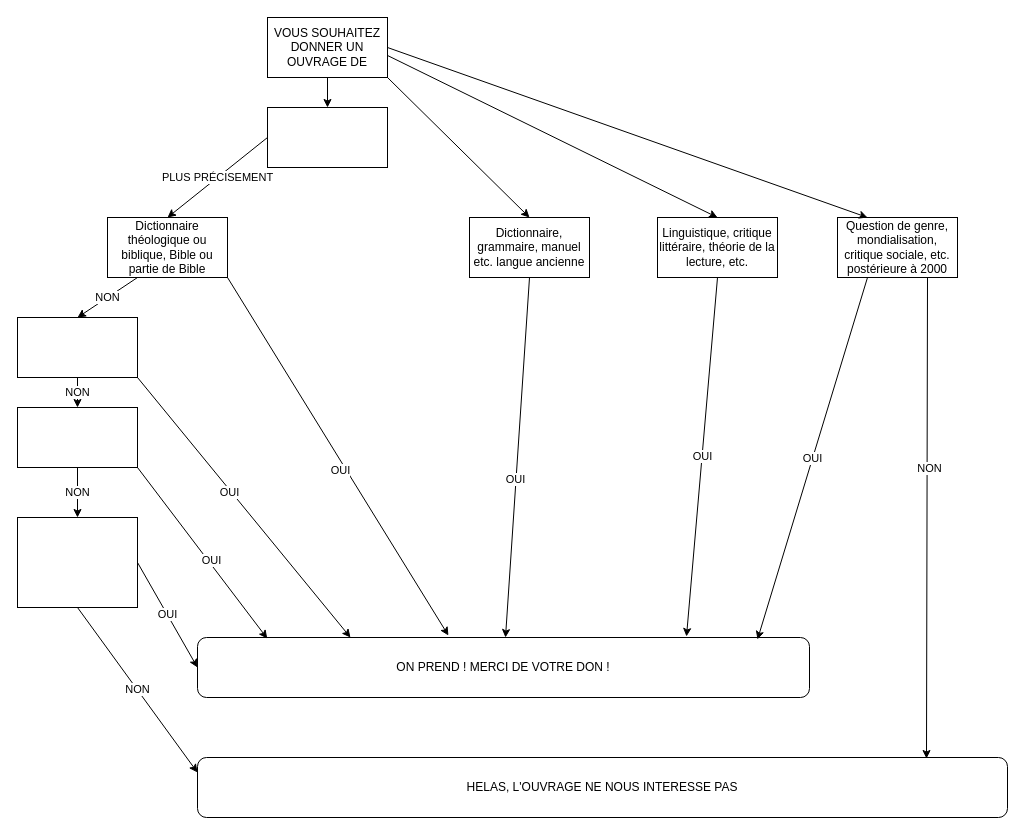
This 1025x835 diagram has some shape labels left out. The shapes that lost their labels are listed below. From the top down, each one's box as (x1, y1, x2, y2) in pixels, then its label:
(266, 106, 388, 168): Religion, Théologie, Philosophie
(16, 316, 138, 378): APRÈS 1990
(16, 406, 138, 468): Grande collection, grand auteur, grand éditeur (voire annexe)
(16, 516, 138, 608): Édition de source ancienne, médiévale ou de l'époque moderne jusqu'au 19es.
